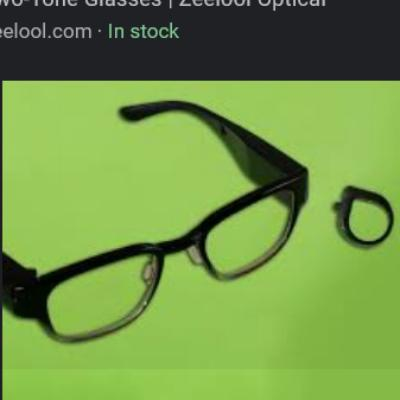glasses: (3, 101, 315, 349)
